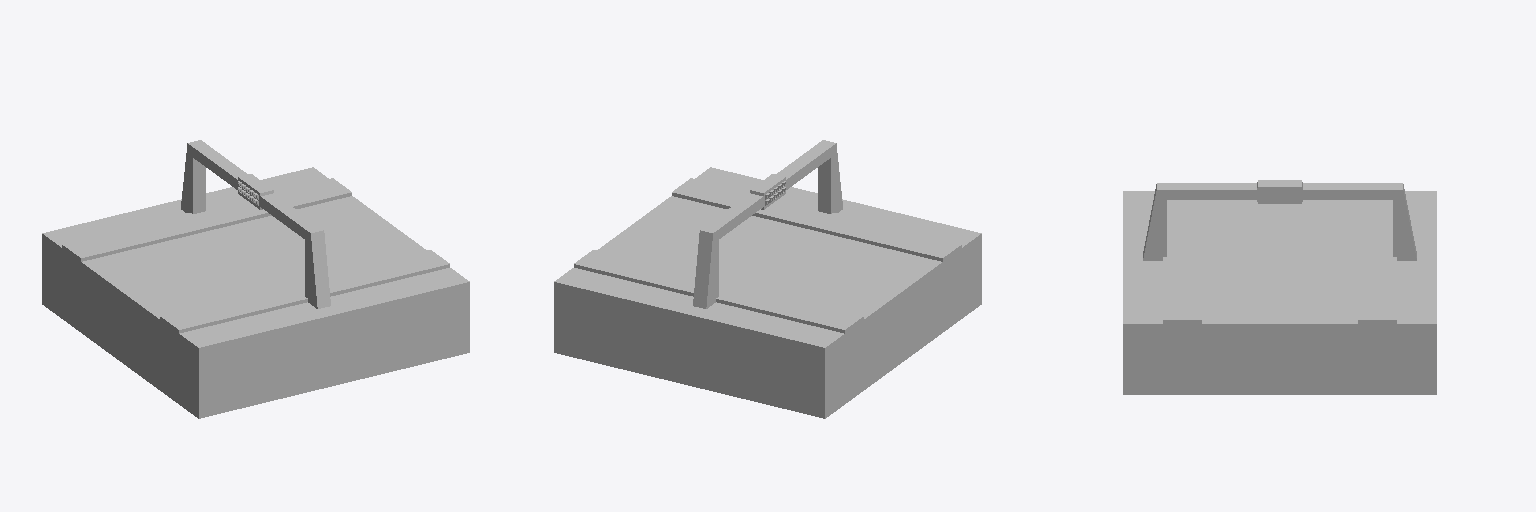
The model's file is track-start-finish.obj.
The picture shows the model from 3 angles: view 1: azimuth 30°, elevation 25°; view 2: azimuth 150°, elevation 25°; view 3: azimuth 270°, elevation 25°; orthographic projection.
Parts seen in each view (by area): view 1: track-start-finish_Cube.037; view 2: track-start-finish_Cube.037; view 3: track-start-finish_Cube.037.
Part boxes in pixels (x1,y1,x2,y2): track-start-finish_Cube.037: (42, 140, 469, 418); track-start-finish_Cube.037: (554, 140, 981, 418); track-start-finish_Cube.037: (1123, 180, 1436, 394).
Bounding box in the file's own units: 8 × 4.09 × 8.